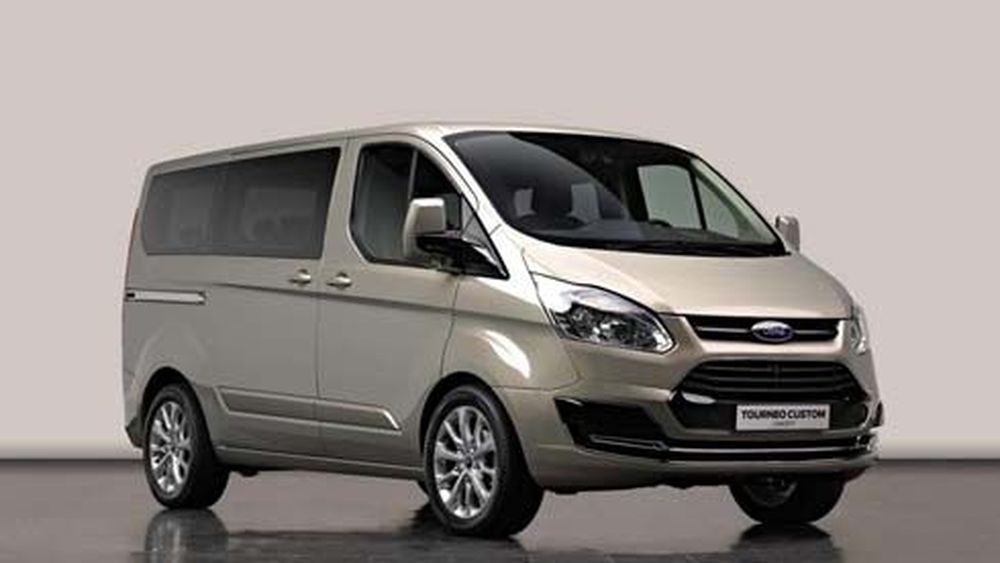van: (114, 116, 889, 539)
